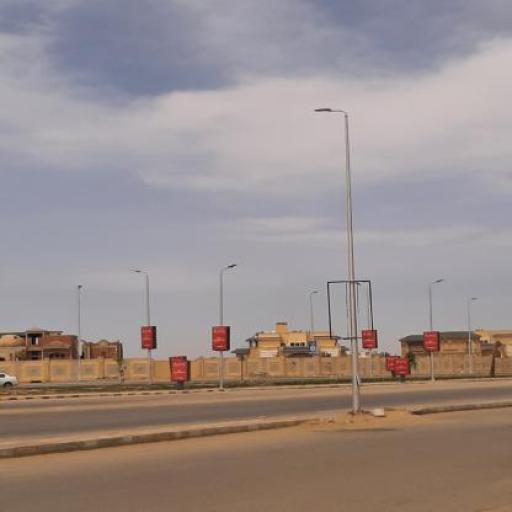street light: (315, 107, 362, 412), (132, 270, 154, 384), (218, 264, 237, 388), (428, 278, 444, 380), (309, 290, 318, 376), (468, 297, 478, 372), (78, 285, 84, 381)
